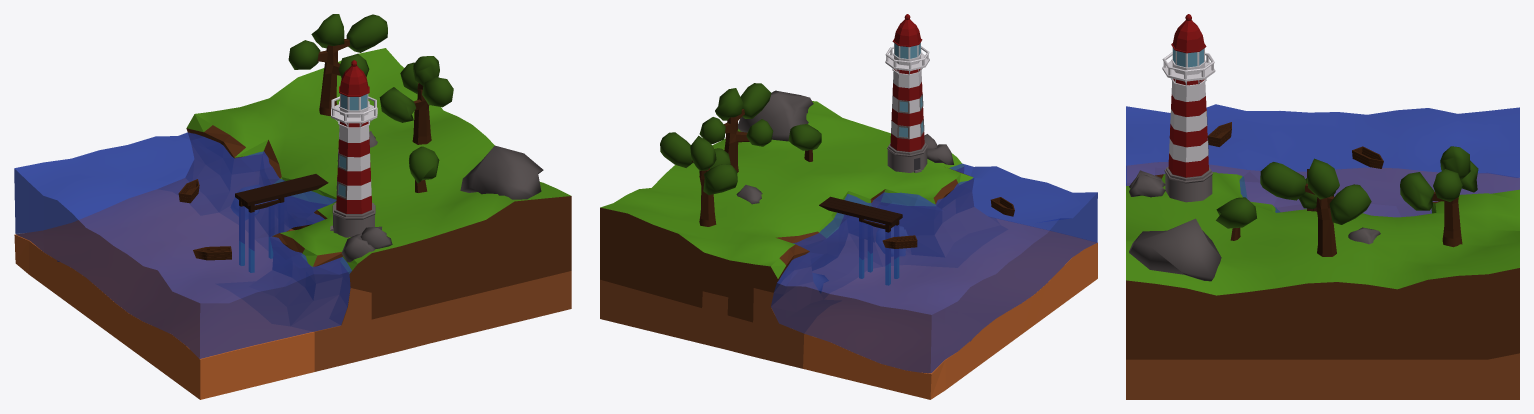
File: Beacon_fbx.FBX
3 views of the same model, side by side, from view 1: azimuth 30°, elevation 25°; view 2: azimuth 150°, elevation 25°; view 3: azimuth 270°, elevation 25° (orthographic). The views are drawn at different scales.
Visible parts, largest first — view 1: Plane001, Object001, Cylinder001, Sphere005, Sphere004, Sphere001, Box011, Object002, Sphere007, Object003, Sphere008; view 2: Plane001, Object001, Cylinder001, Sphere004, Sphere005, Box011, Sphere001, Object002; view 3: Plane001, Object001, Cylinder001, Sphere004, Sphere001, Sphere005, Object002, Sphere008, Box010, Object003, Sphere006.
Boxes of the visible parts, <box> form: Plane001: <box>14,48,571,399</box>; Object001: <box>14,132,351,358</box>; Cylinder001: <box>331,60,377,237</box>; Sphere005: <box>288,14,387,115</box>; Sphere004: <box>379,56,453,144</box>; Sphere001: <box>460,145,543,199</box>; Box011: <box>235,174,328,272</box>; Object002: <box>409,146,439,192</box>; Sphere007: <box>341,233,375,262</box>; Object003: <box>193,246,231,260</box>; Sphere008: <box>360,226,392,248</box>; Plane001: <box>600,101,1097,399</box>; Object001: <box>771,163,1097,373</box>; Cylinder001: <box>885,14,929,172</box>; Sphere004: <box>699,83,773,172</box>; Sphere005: <box>660,132,737,226</box>; Box011: <box>819,196,902,285</box>; Sphere001: <box>738,90,813,141</box>; Object002: <box>788,124,821,161</box>; Plane001: <box>1126,162,1519,399</box>; Object001: <box>1126,104,1519,217</box>; Cylinder001: <box>1162,14,1215,202</box>; Sphere004: <box>1260,158,1371,256</box>; Sphere001: <box>1129,218,1221,281</box>; Sphere005: <box>1400,146,1478,247</box>; Object002: <box>1216,197,1256,240</box>; Sphere008: <box>1129,174,1165,197</box>; Box010: <box>1352,146,1383,168</box>; Object003: <box>1207,122,1231,146</box>; Sphere006: <box>1348,227,1380,244</box>.
Bounding box in the file's own units: 278 × 195 × 241.
